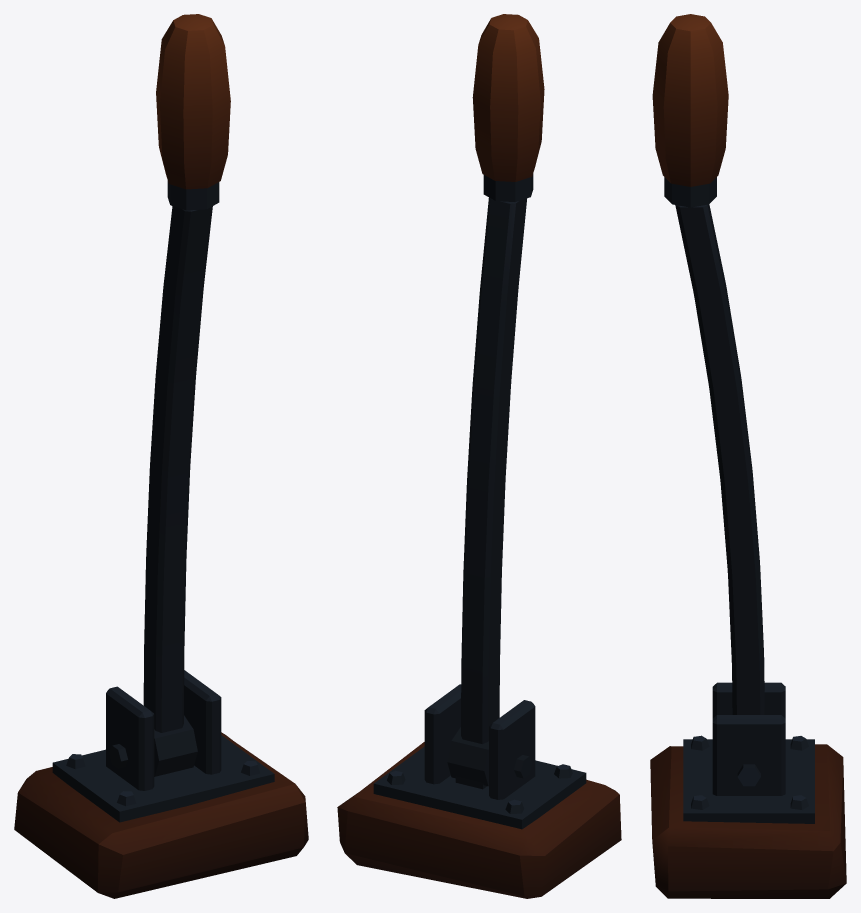
Rendered from Kazan_Bosaltma_Kolu.fbx.
3 views of the same model, side by side, from view 1: azimuth 30°, elevation 25°; view 2: azimuth 150°, elevation 25°; view 3: azimuth 270°, elevation 25° (orthographic). The views are drawn at different scales.
Parts seen in each view (by area): view 1: SM_Kazan_Kolu_Yatak, Kazan_Kolu_Cubuk; view 2: SM_Kazan_Kolu_Yatak, Kazan_Kolu_Cubuk; view 3: SM_Kazan_Kolu_Yatak, Kazan_Kolu_Cubuk.
Part boxes in pixels (x1,y1,x2,y2): SM_Kazan_Kolu_Yatak: [14, 670, 308, 898]; Kazan_Kolu_Cubuk: [143, 14, 230, 776]; SM_Kazan_Kolu_Yatak: [337, 684, 621, 898]; Kazan_Kolu_Cubuk: [447, 14, 544, 789]; SM_Kazan_Kolu_Yatak: [650, 682, 846, 898]; Kazan_Kolu_Cubuk: [652, 14, 764, 714].
Size of the model in its own units: 0.165 by 0.6318 by 0.1342.
